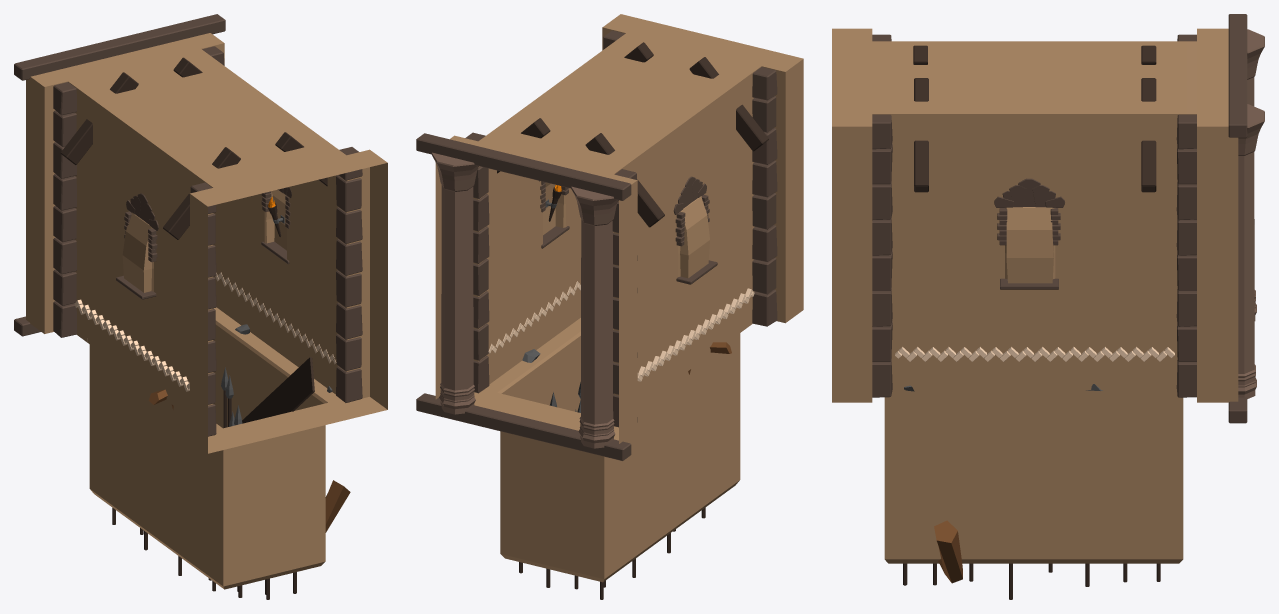
File: tunnel_Falle.fbx
The picture shows the model from 3 angles, left to right: view 1: azimuth 30°, elevation 25°; view 2: azimuth 150°, elevation 25°; view 3: azimuth 270°, elevation 25°; orthographic projection. The views are drawn at different scales.
Parts seen in each view (by area): view 1: Tunnel_Falle; view 2: Tunnel_Falle; view 3: Tunnel_Falle.
Part boxes in pixels (bbox=[...]): Tunnel_Falle: bbox=[14, 14, 387, 599]; Tunnel_Falle: bbox=[416, 14, 803, 599]; Tunnel_Falle: bbox=[832, 14, 1264, 599].
Size of the model in its own units: 259 by 560 by 426.
